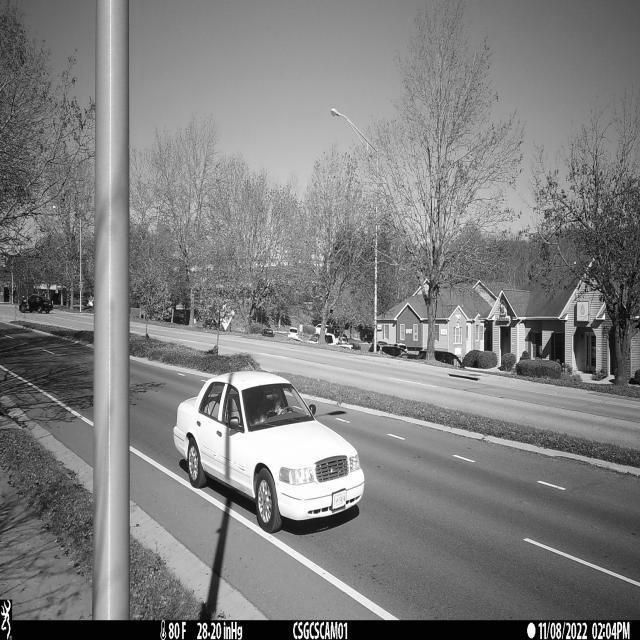Sedan: (170, 371, 365, 534)
